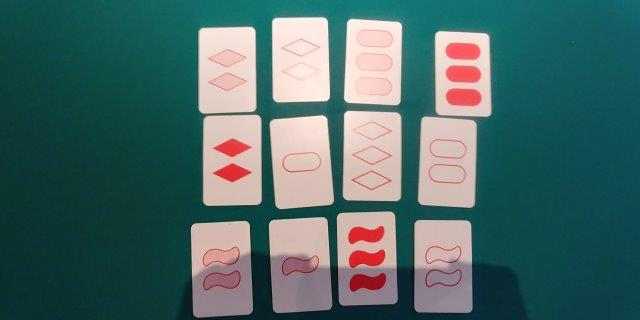1EP: (276, 121, 324, 202)
1HW: (274, 222, 324, 306)
2ED: (276, 19, 325, 98)
2EP: (423, 121, 471, 201)
2EW: (417, 222, 468, 310)
2FD: (206, 119, 258, 200)
2HD: (201, 30, 252, 108)
2HW: (194, 224, 245, 312)
3ED: (346, 113, 396, 198)
3FP: (438, 34, 485, 113)
3FW: (340, 215, 393, 300)
3HP: (350, 23, 397, 102)
